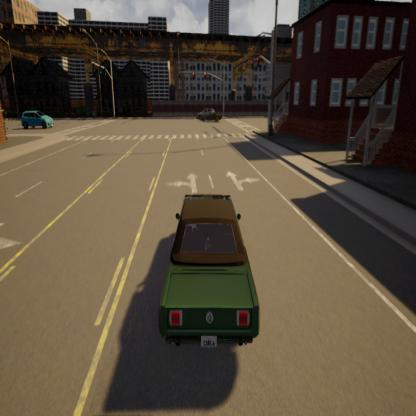Cars: (146, 179, 273, 376), (19, 106, 58, 135), (196, 105, 223, 124)
